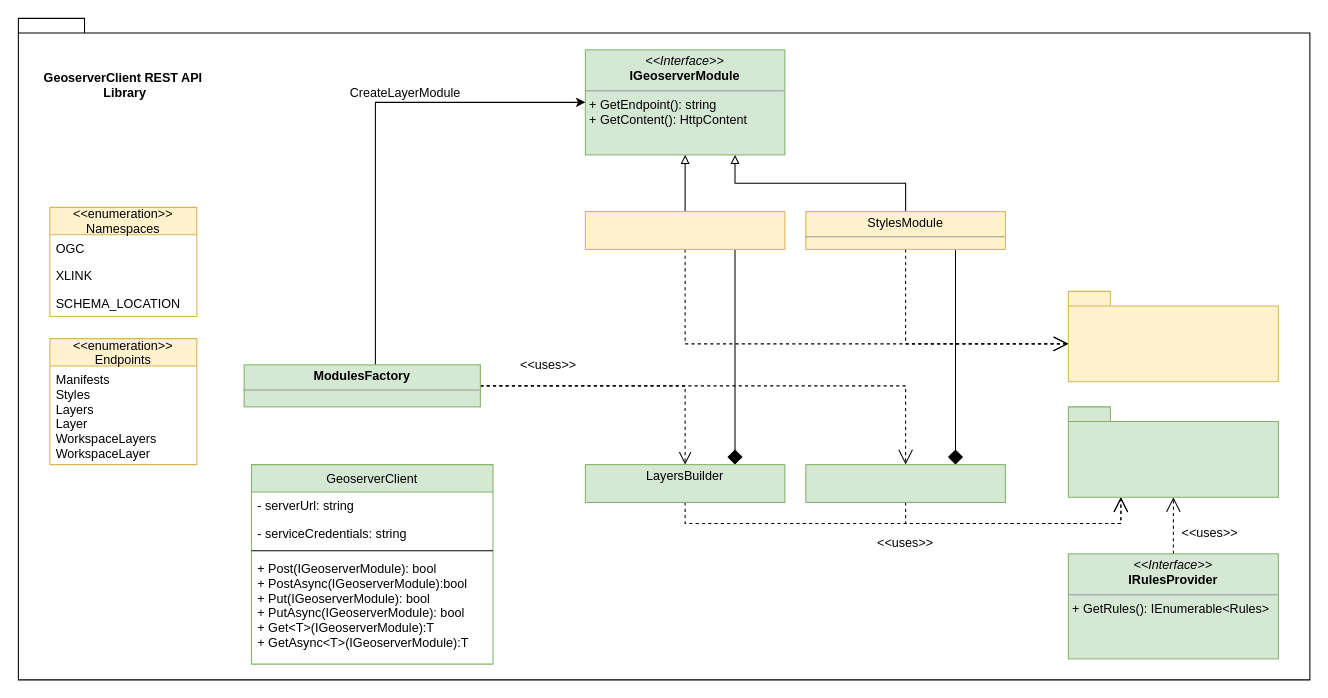
Image size: 1328x698. Some labels were removed from this diagram. The centre of each missing label's shape, as x and y in pixels:
Builder Entities: the point at 1172,451
Internal Entities: the point at 1172,336
LayersModule: the point at 684,230
StylesBuilder: the point at 905,483
